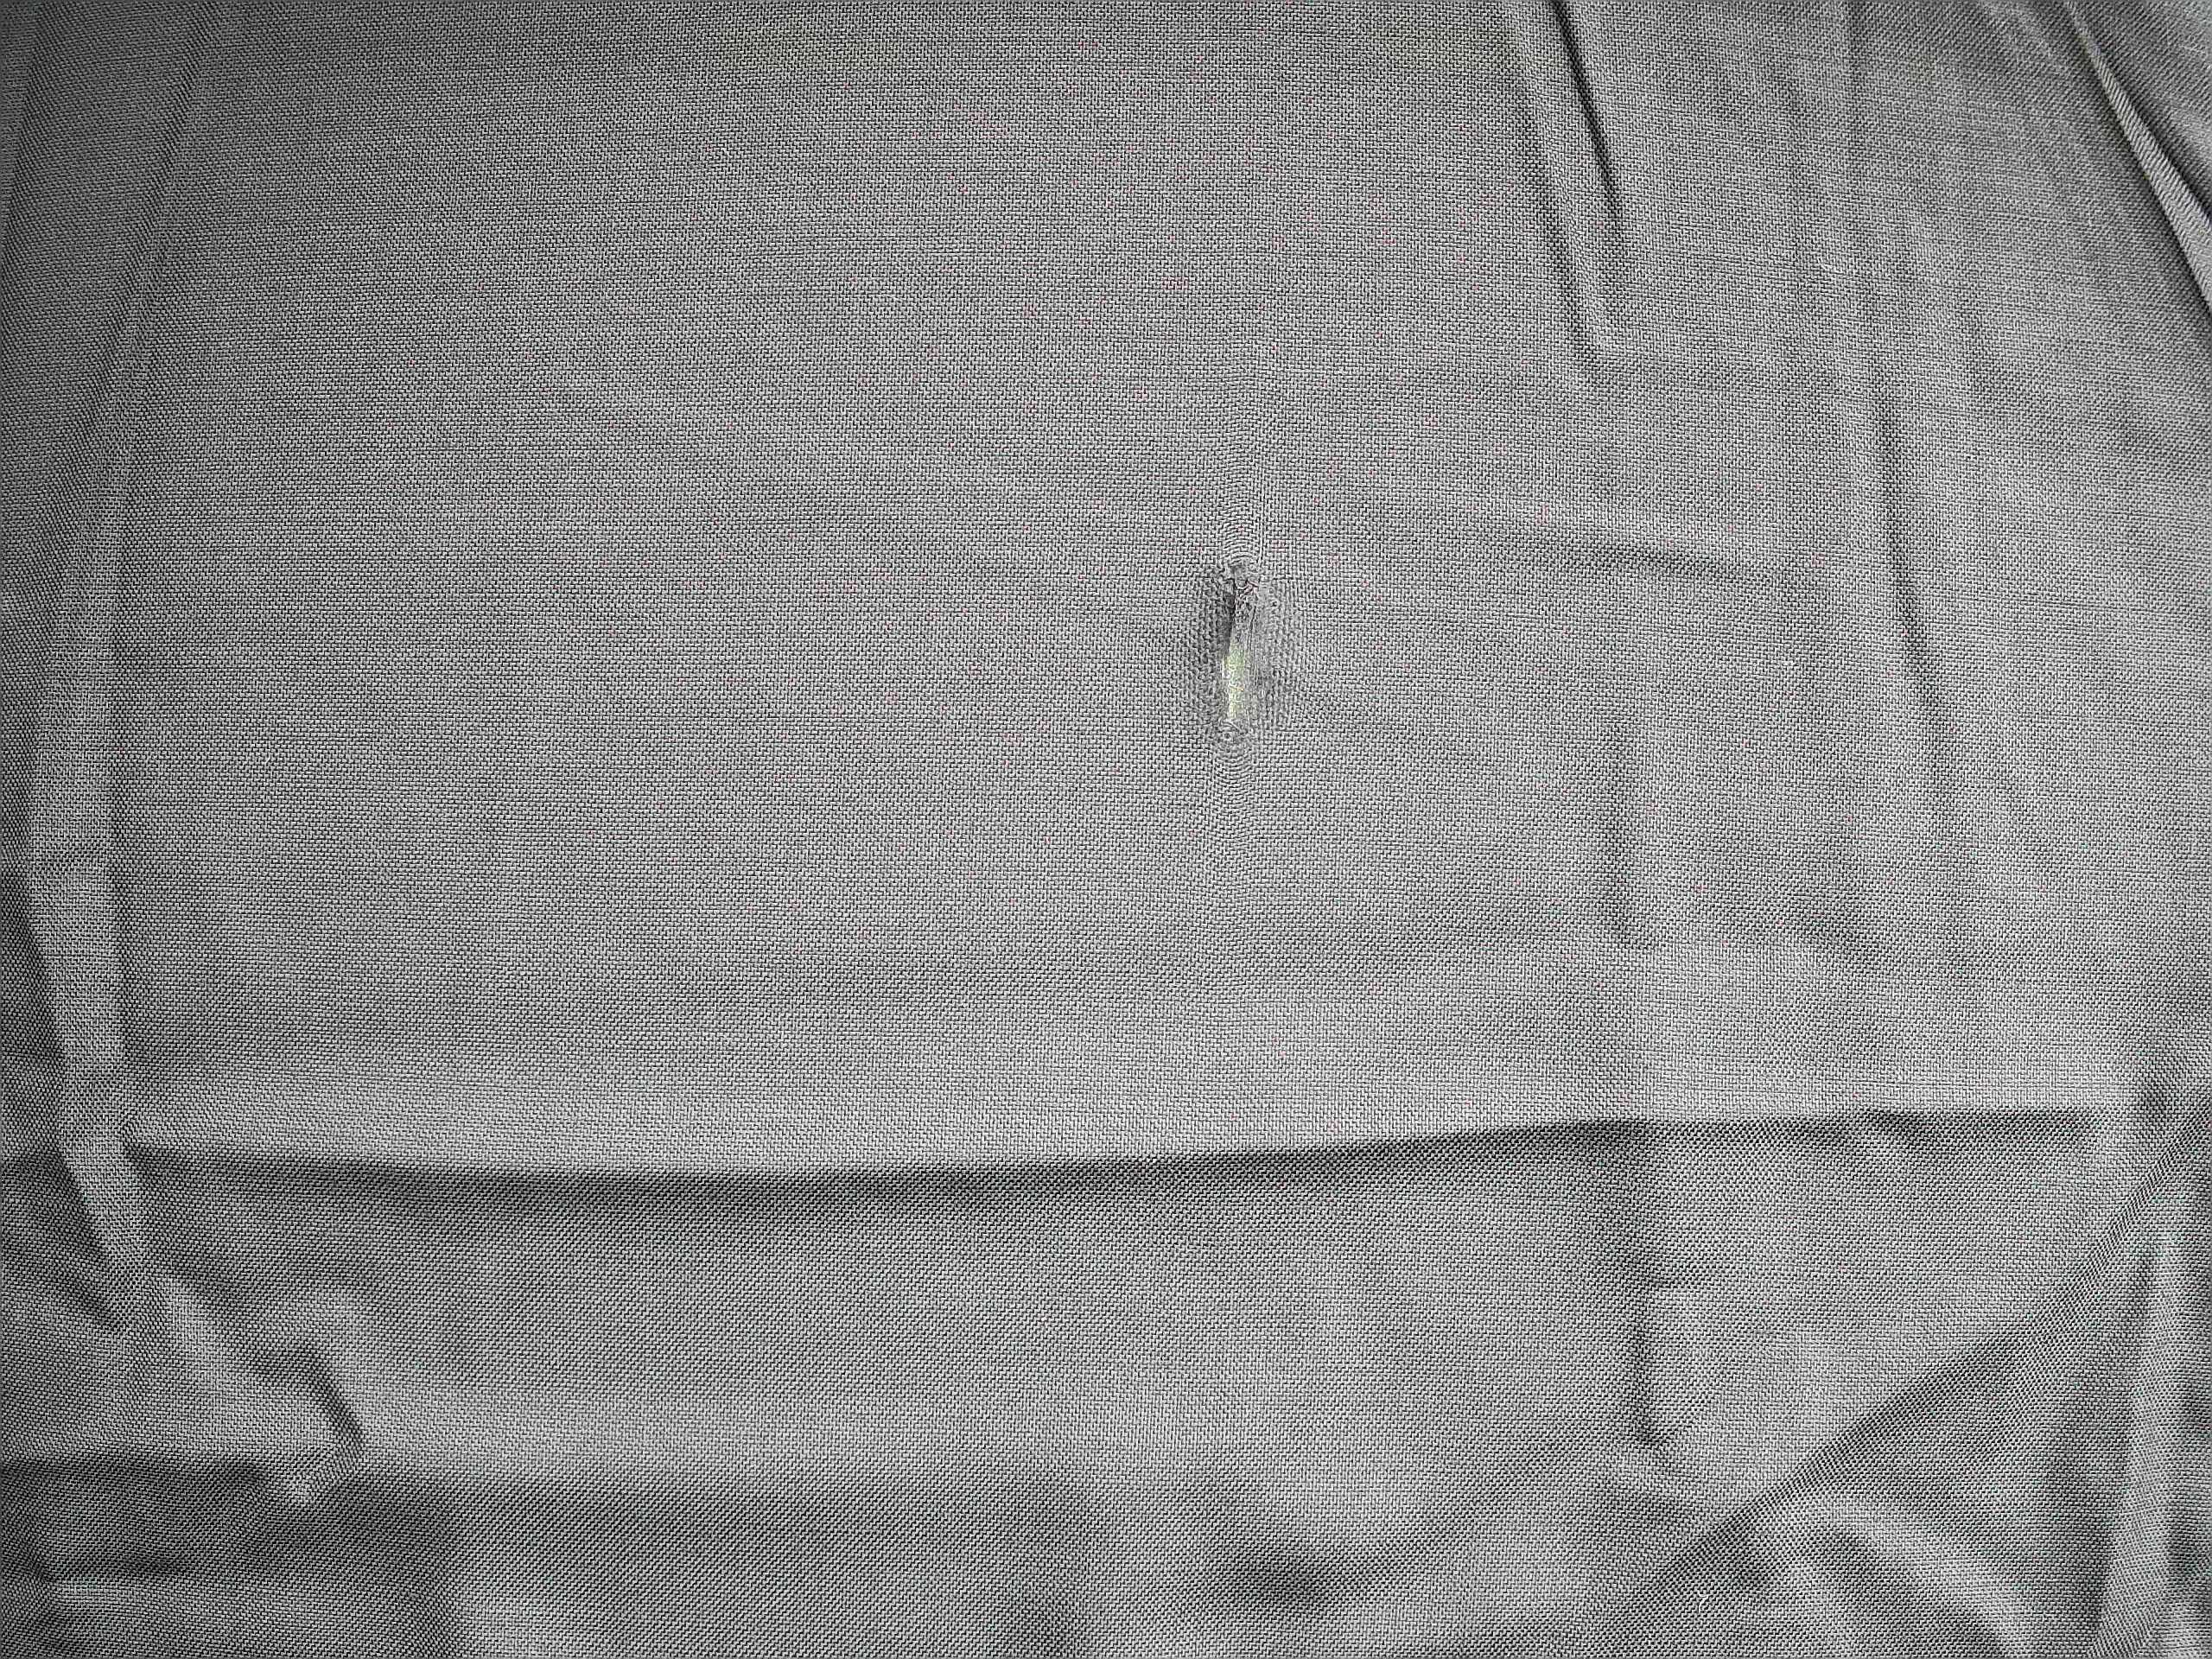brushed-hole: (1146, 523, 1320, 789)
